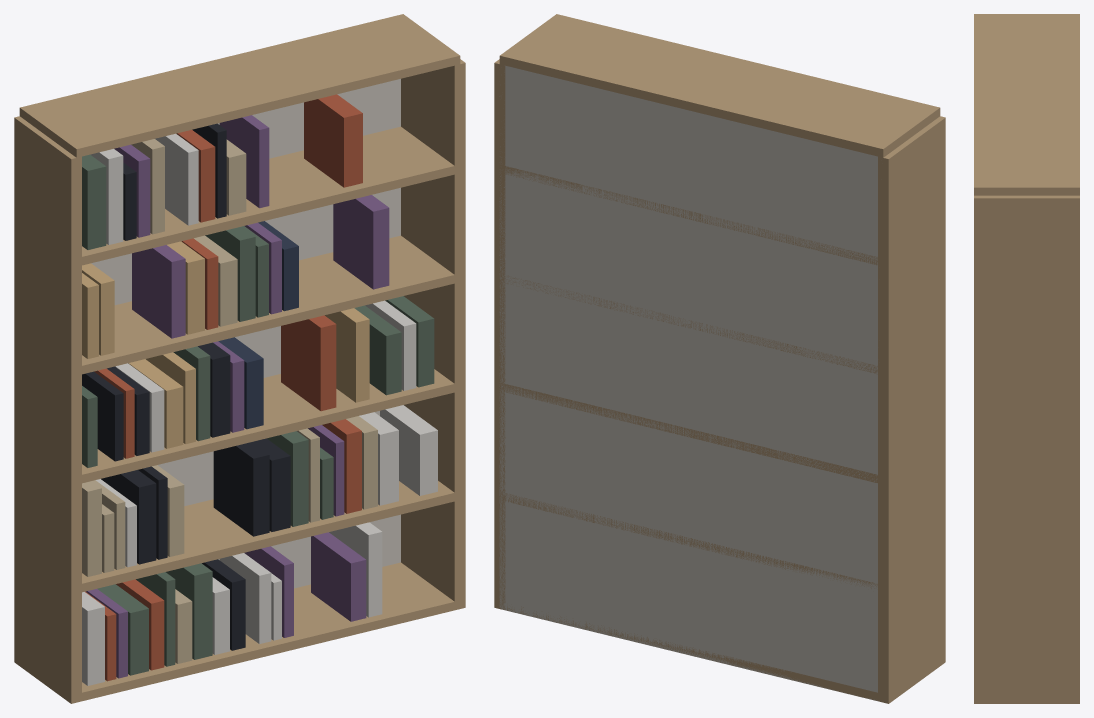
File: estante.glb
3 views of the same model, side by side, from view 1: azimuth 30°, elevation 25°; view 2: azimuth 150°, elevation 25°; view 3: azimuth 270°, elevation 25° (orthographic). The views are drawn at different scales.
Visible parts, largest first — view 1: estante_malha; view 2: estante_malha; view 3: estante_malha.
Part boxes in pixels (x1,y1,x2,y2): estante_malha: (14, 14, 465, 703); estante_malha: (494, 14, 945, 703); estante_malha: (974, 14, 1079, 703).
Bounding box in the file's own units: 1.44 × 1.93 × 0.36.
